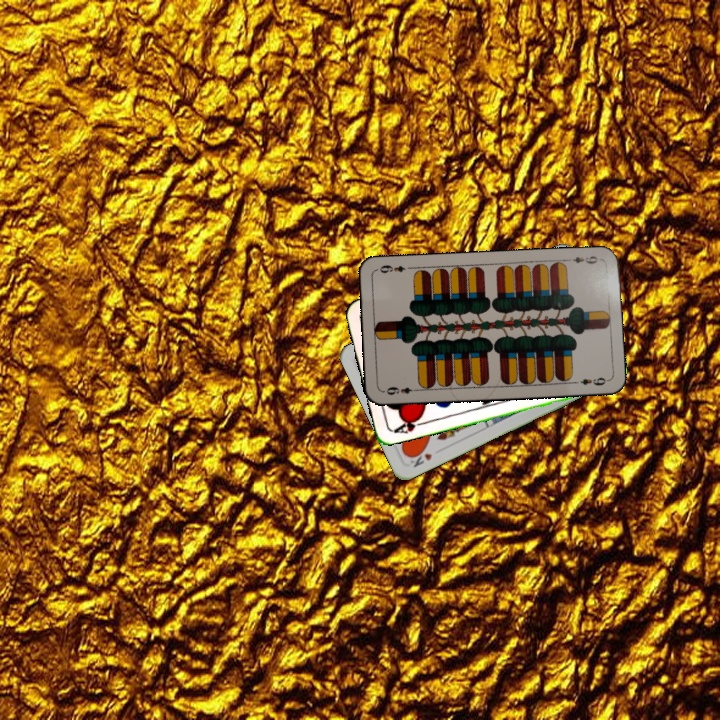E9: (380, 383, 421, 397), (563, 252, 603, 266)
HA: (389, 412, 429, 436)
HK: (403, 445, 435, 470)
